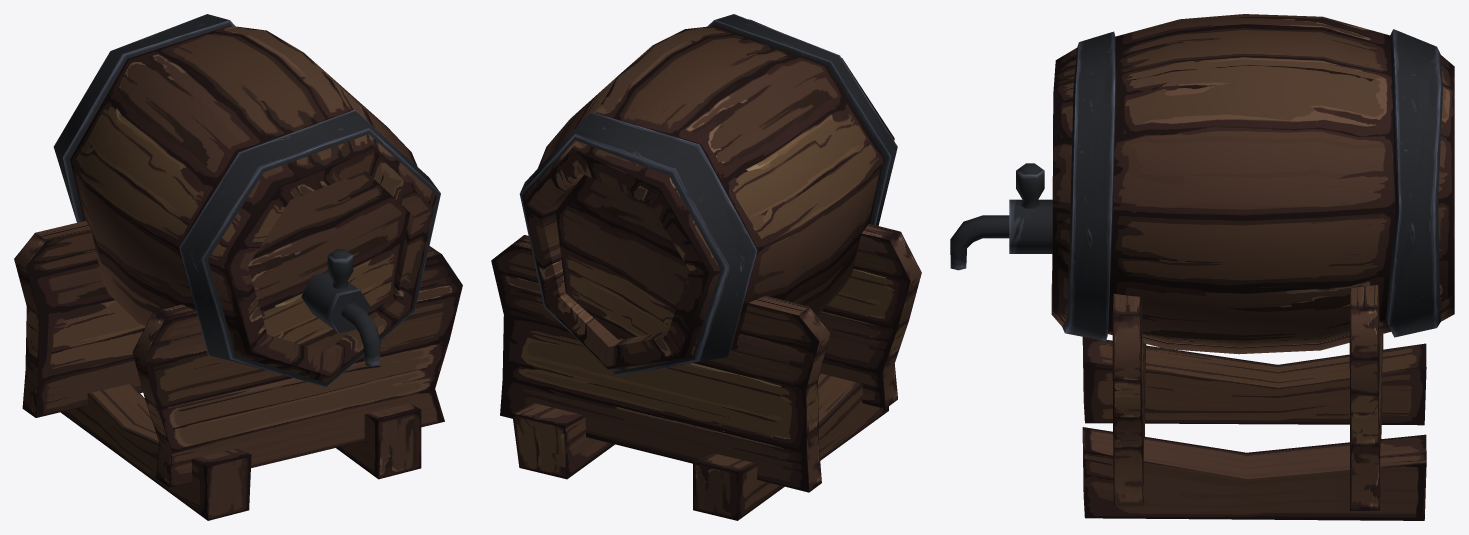
The model's file is SM_PROP_barrel_dungeon_05.fbx.
The picture shows the model from 3 angles, left to right: view 1: azimuth 30°, elevation 25°; view 2: azimuth 150°, elevation 25°; view 3: azimuth 270°, elevation 25°; orthographic projection. The views are drawn at different scales.
Parts seen in each view (by area): view 1: SM_PROP_barrel_dungeon_05; view 2: SM_PROP_barrel_dungeon_05; view 3: SM_PROP_barrel_dungeon_05.
Boxes of the visible parts, <box> form: SM_PROP_barrel_dungeon_05: <box>14,14,462,520</box>; SM_PROP_barrel_dungeon_05: <box>491,14,921,520</box>; SM_PROP_barrel_dungeon_05: <box>950,14,1454,520</box>.
Size of the model in its own units: 90.65 by 98.85 by 106.
